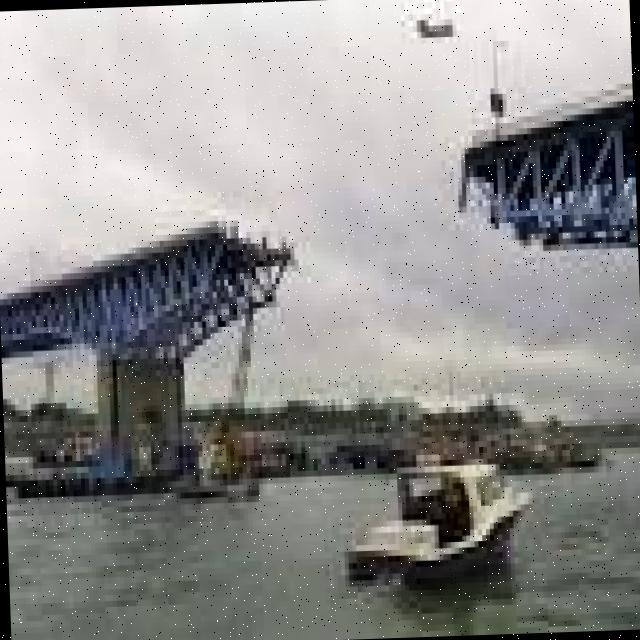bridge collapse: (9, 6, 640, 586)
